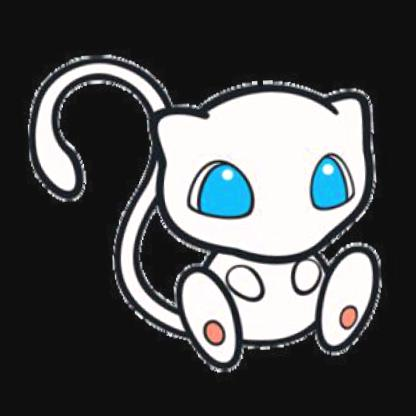Mew: (84, 4, 415, 405)
